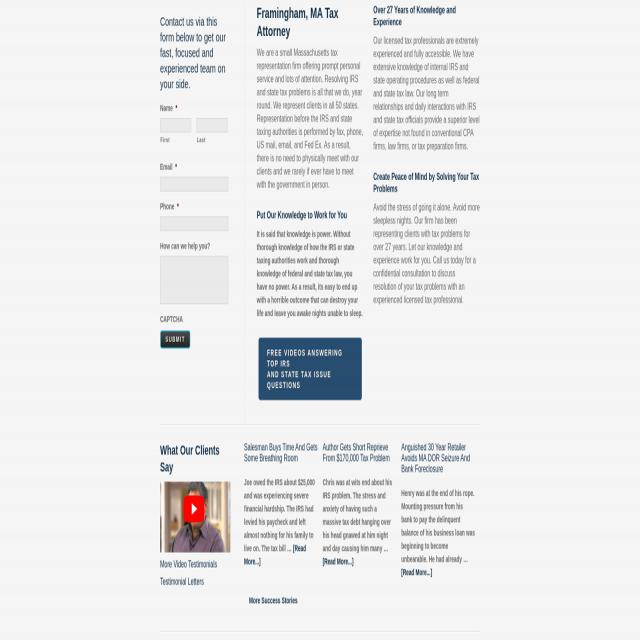button: (160, 470, 230, 564), (258, 338, 362, 400)
field: (160, 216, 228, 231), (160, 177, 228, 191), (160, 331, 190, 348), (160, 118, 192, 133), (196, 118, 228, 133)
